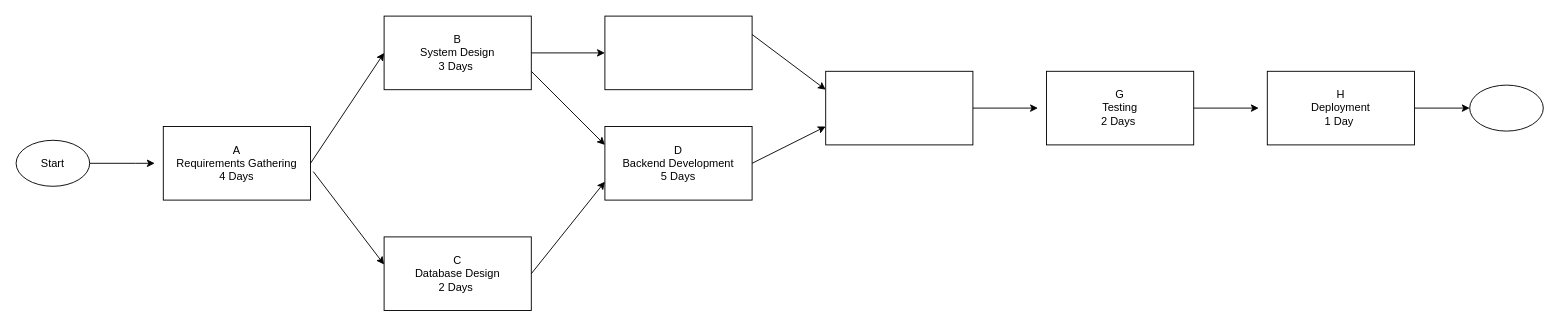
The diagram is 1559 pixels wide and 327 high, and some of its shapes have lost their labels. The shapes that lost their labels are listed below. From the top down, each one's centre as x and y in pixels, then its label:
(x=678, y=52): E Frontend Development 4 Days
(x=899, y=107): F Integration 3 Days
(x=1506, y=107): End
